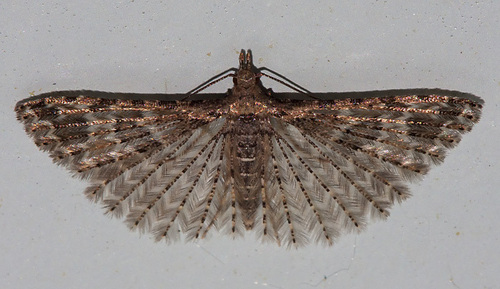Alucitidae: (17, 42, 485, 249)
moth: (15, 40, 483, 247)
